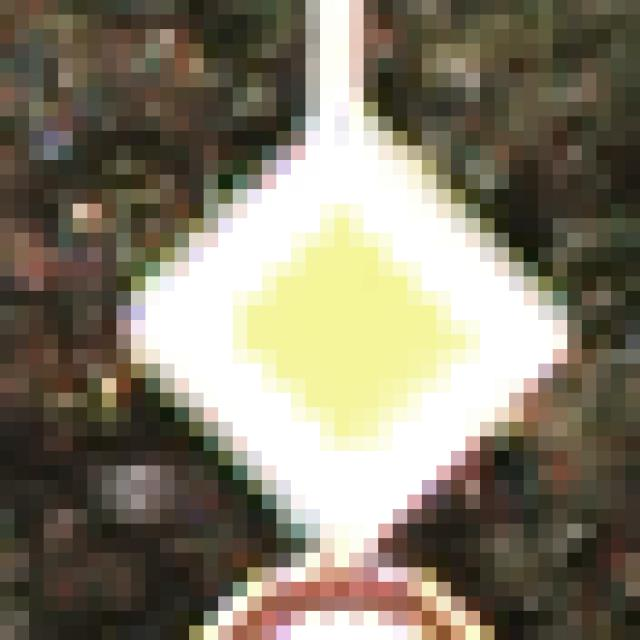Main Road: (89, 89, 569, 569)
